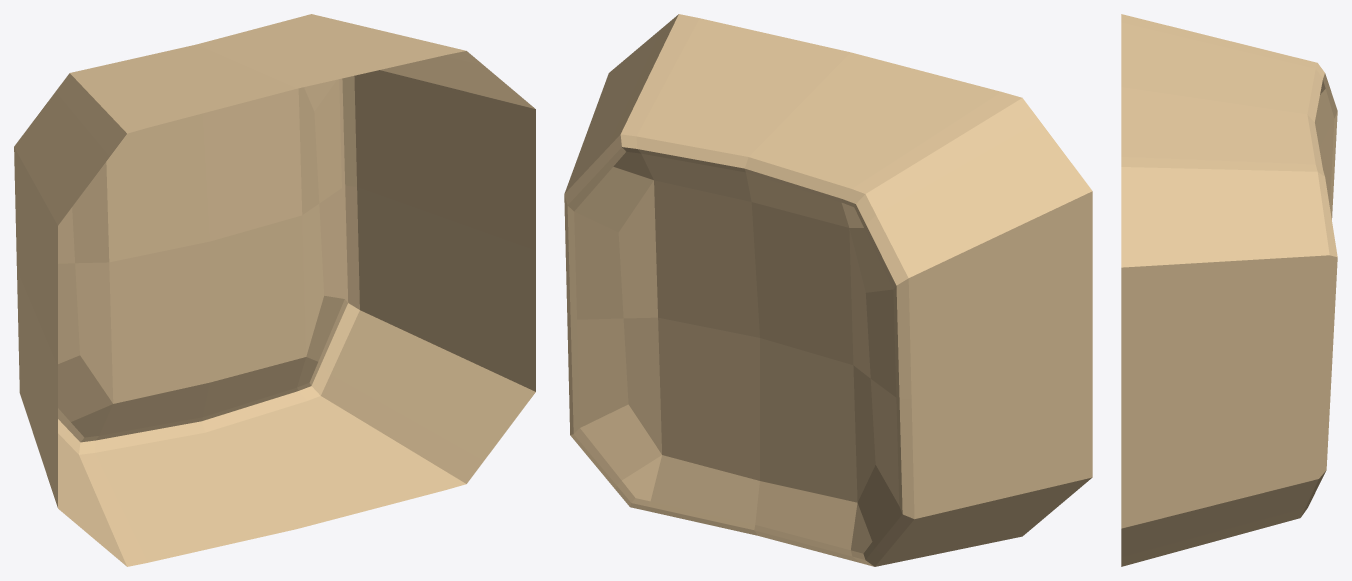
The model's file is lo-keycap.fbx.
3 views of the same model, side by side, from view 1: azimuth 30°, elevation 25°; view 2: azimuth 150°, elevation 25°; view 3: azimuth 270°, elevation 25° (orthographic). The views are drawn at different scales.
Parts seen in each view (by area): view 1: Cube; view 2: Cube; view 3: Cube.
Part boxes in pixels (x1,y1,x2,y2): Cube: (14,14,535,566); Cube: (564,14,1092,566); Cube: (1121,14,1337,566).
Bounding box in the file's own units: 2.3 × 2.02 × 0.9765.
